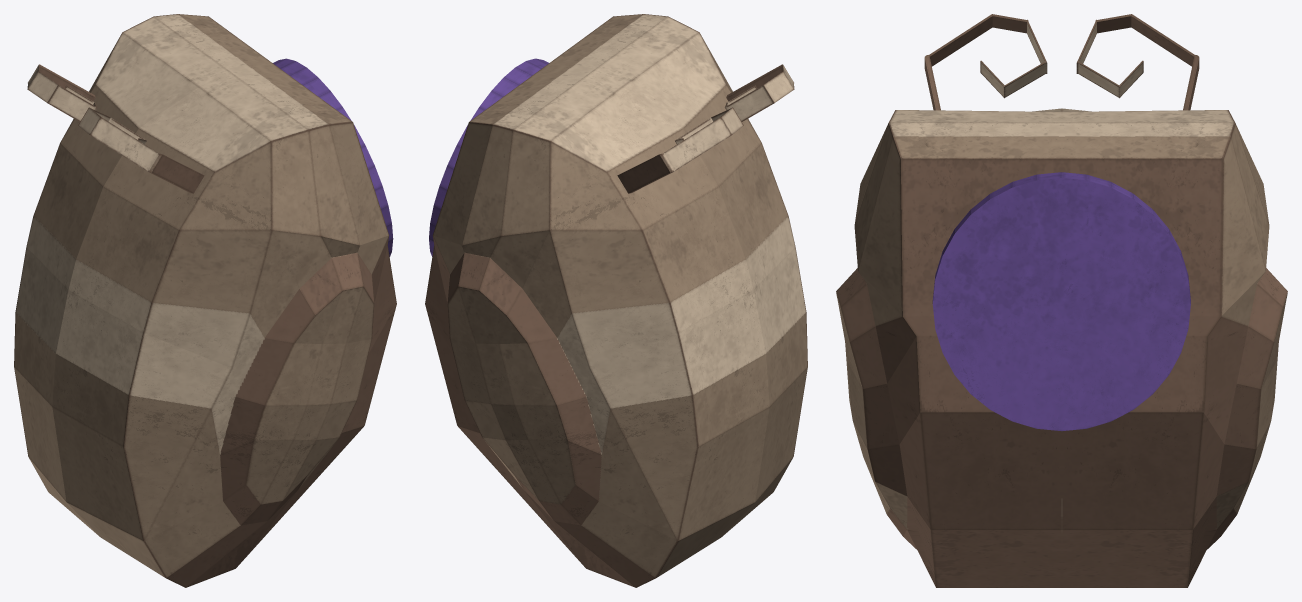
The model's file is cabeza_abeja.fbx.
3 views of the same model, side by side, from view 1: azimuth 30°, elevation 25°; view 2: azimuth 150°, elevation 25°; view 3: azimuth 270°, elevation 25° (orthographic). The views are drawn at different scales.
Visible parts, largest first — view 1: Cube.002, Cylinder.004; view 2: Cube.002, Cylinder.004; view 3: Cube.002, Cylinder.004.
Part boxes in pixels (x1,y1,x2,y2): Cube.002: [14, 14, 396, 587]; Cylinder.004: [273, 58, 393, 256]; Cube.002: [425, 14, 807, 587]; Cylinder.004: [429, 58, 548, 256]; Cube.002: [836, 14, 1287, 587]; Cylinder.004: [932, 172, 1190, 431].
Size of the model in its own units: 12.17 by 18.02 by 14.1.
